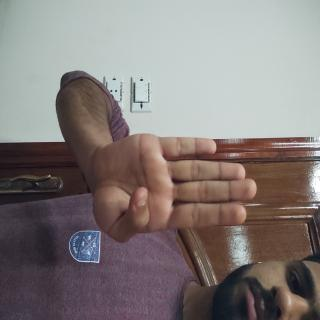KAAF: (95, 76, 191, 317)
